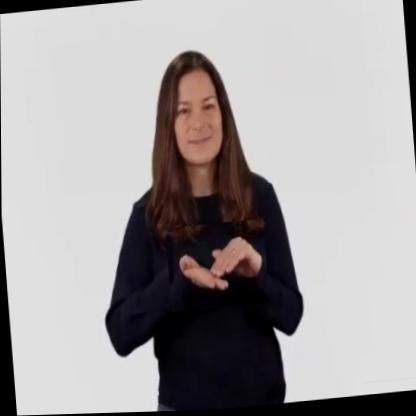ExcuseMe: (165, 220, 269, 313)
